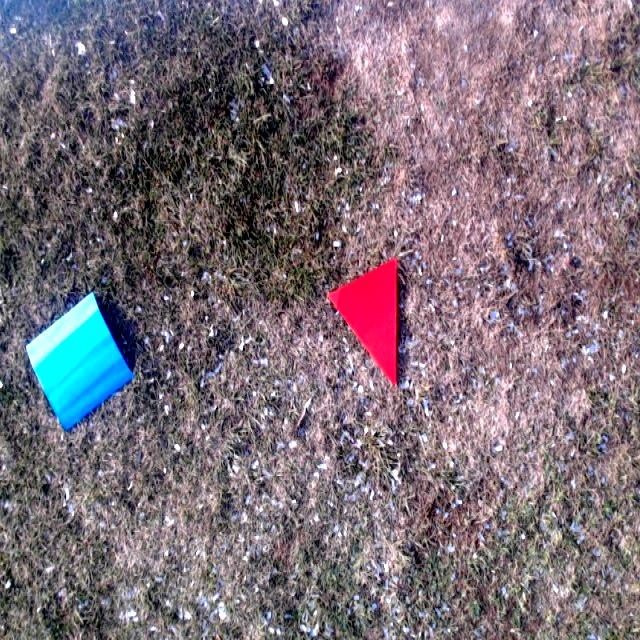blue_square: (27, 294, 133, 431)
red_triangle: (328, 258, 398, 386)
